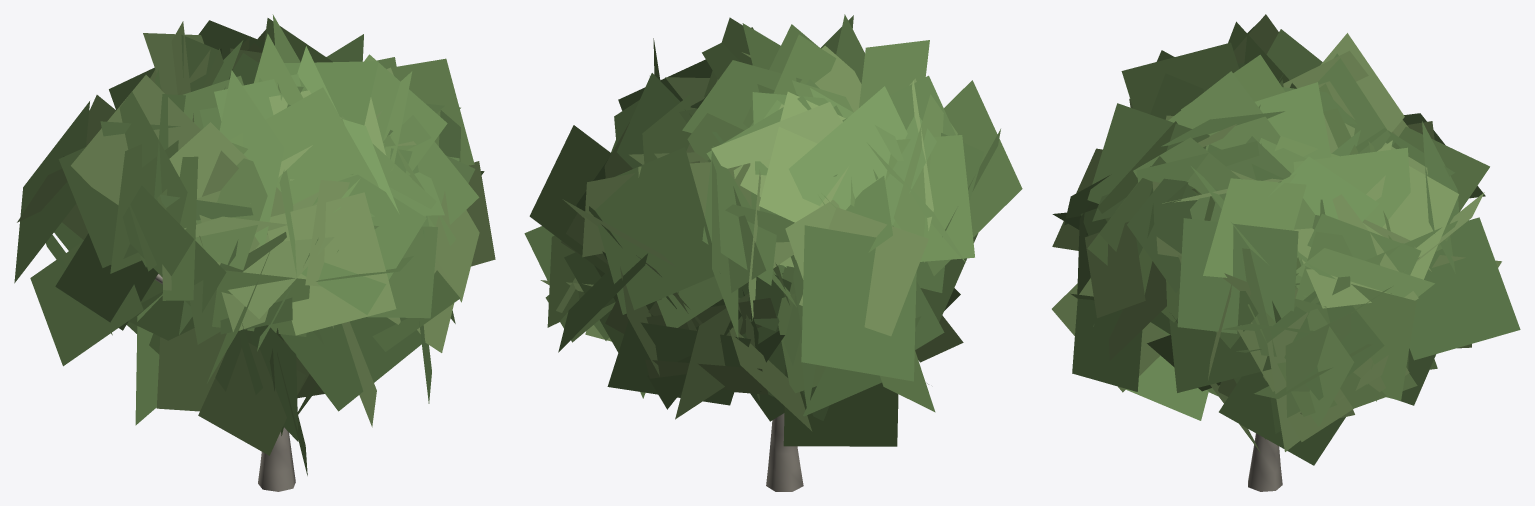
Rendered from beech_lod1.glb.
3 views of the same model, side by side, from view 1: azimuth 30°, elevation 25°; view 2: azimuth 150°, elevation 25°; view 3: azimuth 270°, elevation 25° (orthographic). The views are drawn at different scales.
Parts seen in each view (by area): view 1: beech_lod1; view 2: beech_lod1; view 3: beech_lod1.
Boxes of the visible parts, x1,y1,x2,y2 form: beech_lod1: (14,14,495,491); beech_lod1: (524,14,1022,491); beech_lod1: (1052,14,1520,491).
Size of the model in its own units: 0.9496 by 1 by 1.
